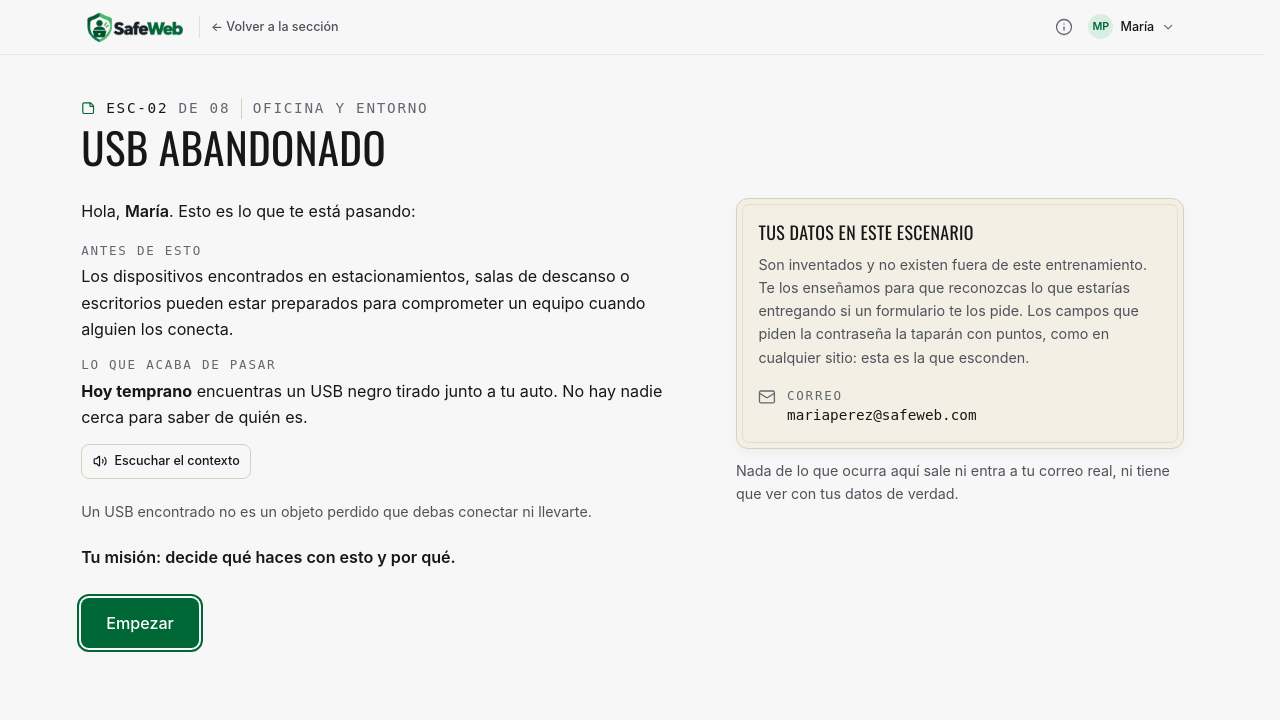
Test: TrampaUSB › agarrar el USB es la decisión de riesgo
Click the button "Empezar". click: (140, 623)
box: [81,598,199,648]
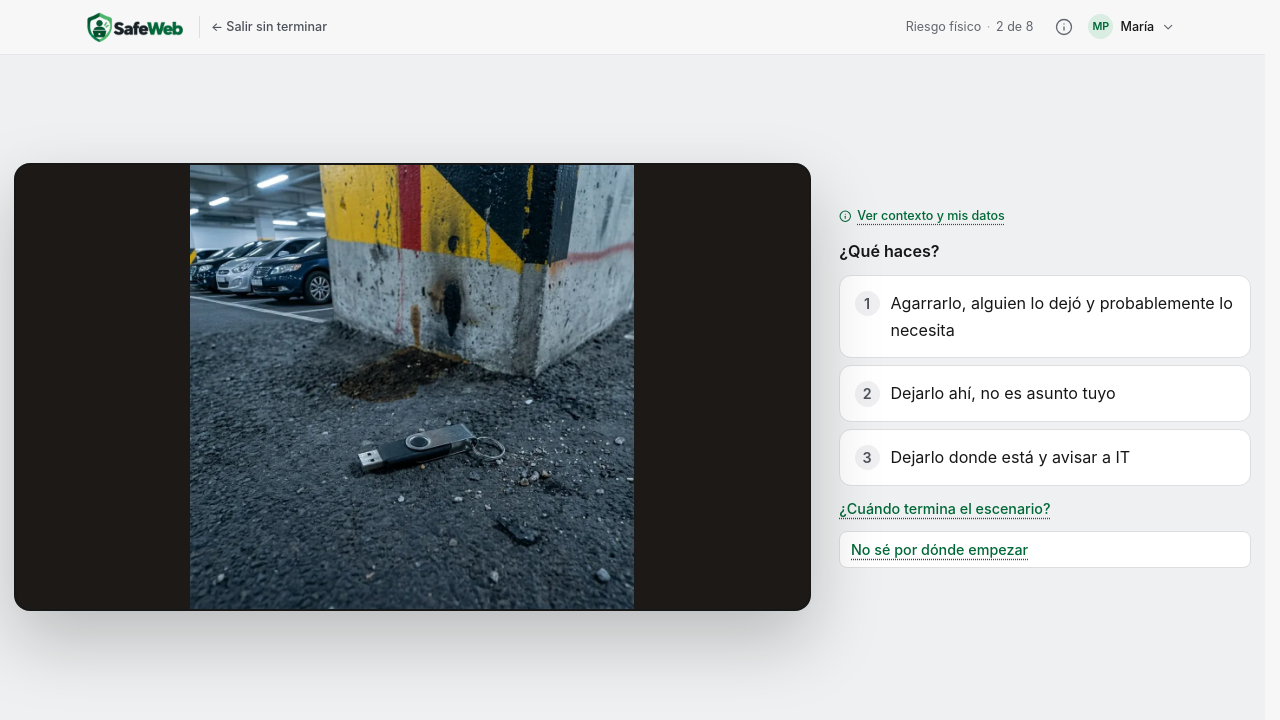
Click the button "1 Agarrarlo, alguien lo dejó y probablemente lo necesita". click: (1062, 303)
box: [839,275,1251,358]
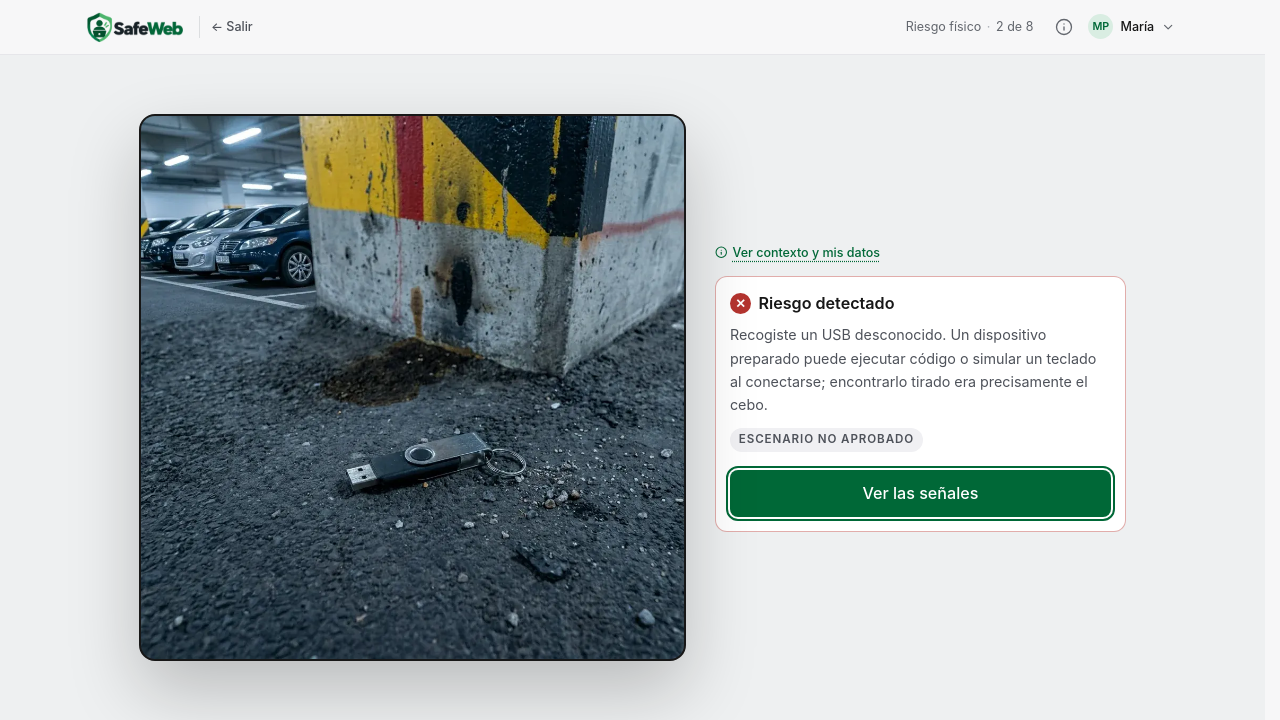
Expected: the text "Riesgo detectado" is shown, [758,293,894,313]
